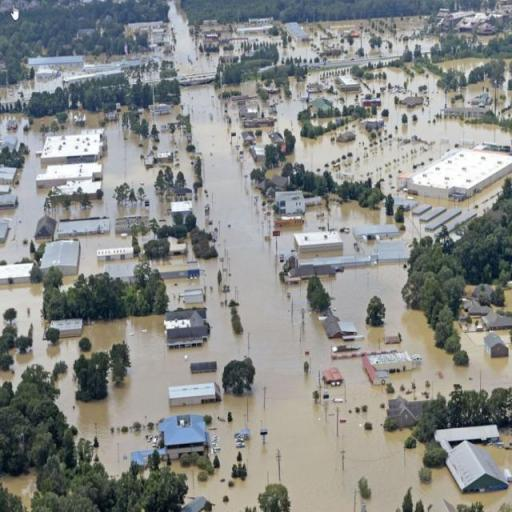house: (403, 148, 512, 206), (444, 440, 509, 498), (159, 412, 210, 462), (41, 130, 106, 164), (360, 348, 419, 383), (433, 422, 506, 450), (294, 228, 348, 265), (161, 310, 210, 348), (42, 237, 80, 282), (166, 380, 220, 409), (316, 311, 364, 341), (37, 164, 104, 184), (276, 188, 306, 224), (96, 236, 134, 262), (0, 262, 35, 285), (28, 56, 84, 70), (482, 330, 508, 360), (164, 261, 200, 279), (169, 198, 193, 224), (462, 296, 486, 322), (481, 311, 512, 330), (336, 76, 361, 93), (182, 286, 204, 305), (0, 167, 18, 186), (248, 16, 273, 28), (362, 96, 382, 108)
